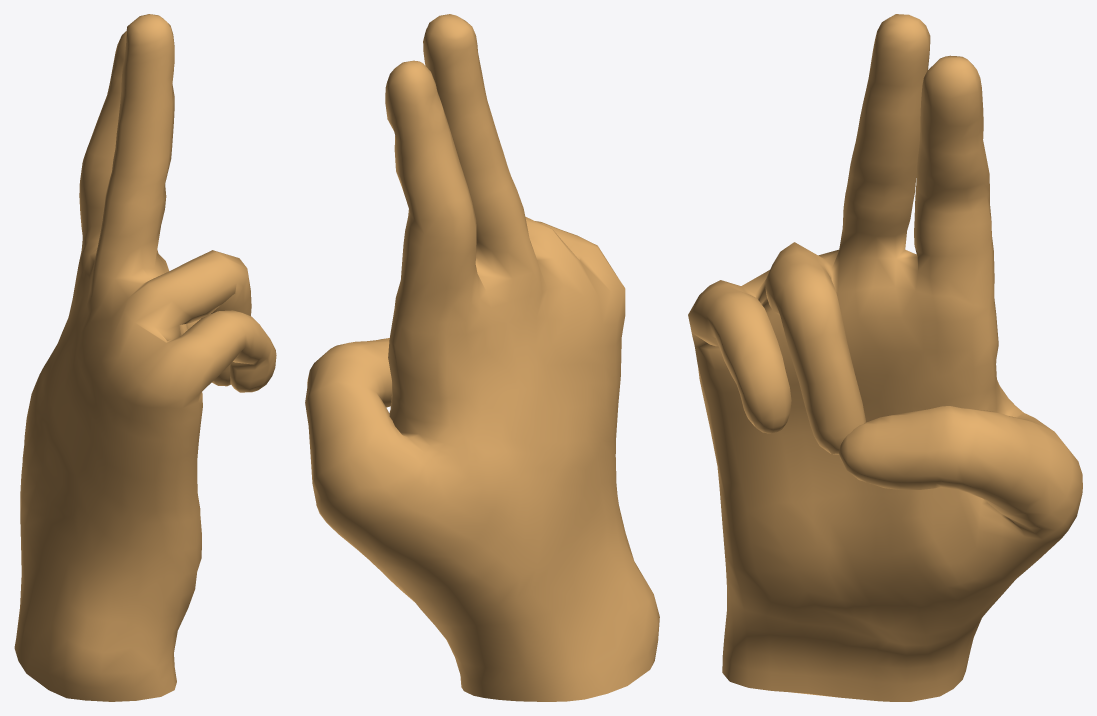
Rendered from Vocales_LSM_4.glb.
The picture shows the model from 3 angles, left to right: view 1: azimuth 30°, elevation 25°; view 2: azimuth 150°, elevation 25°; view 3: azimuth 270°, elevation 25°; orthographic projection. The views are drawn at different scales.
Visible parts, largest first — view 1: hand_L; view 2: hand_L; view 3: hand_L.
Boxes of the visible parts, x1=… form: hand_L: x1=14, y1=14, x2=276, y2=701; hand_L: x1=305, y1=14, x2=659, y2=701; hand_L: x1=688, y1=14, x2=1082, y2=701.
Size of the model in its own units: 1.63 by 3.78 by 1.94.
